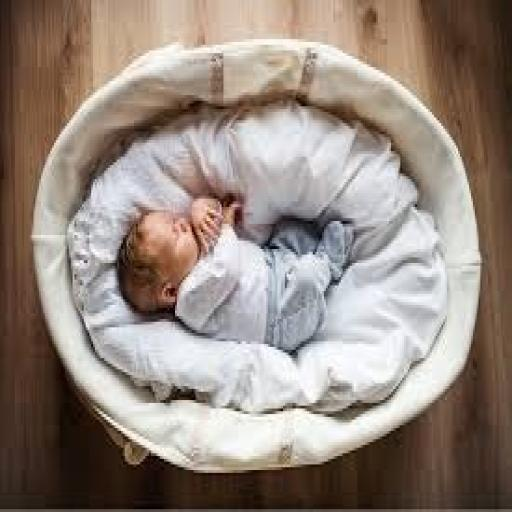baby: (118, 199, 353, 352)
crib: (32, 40, 482, 472)
